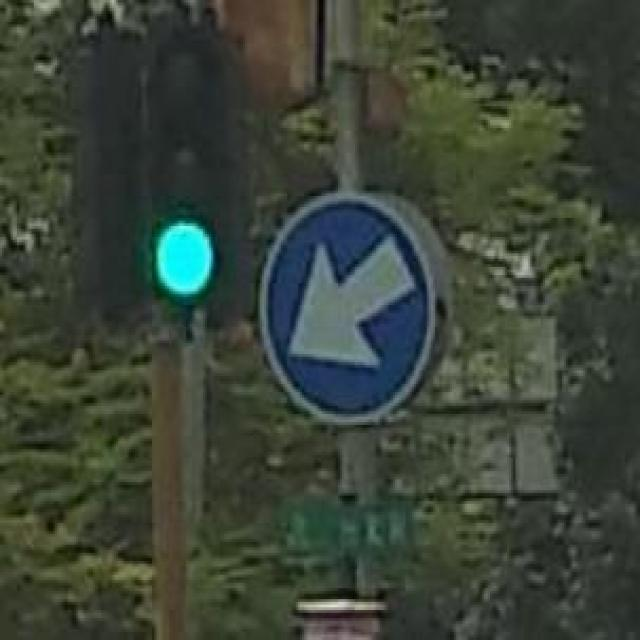traffic sign: (270, 193, 435, 414)
